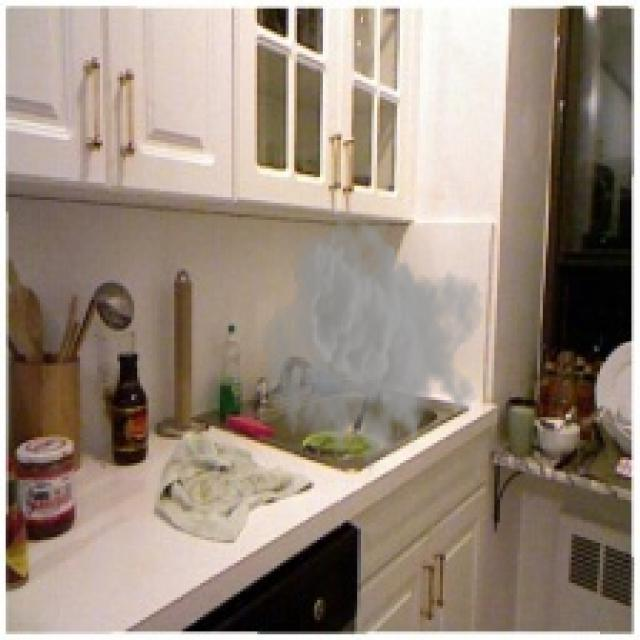smoke: (260, 206, 486, 483)
